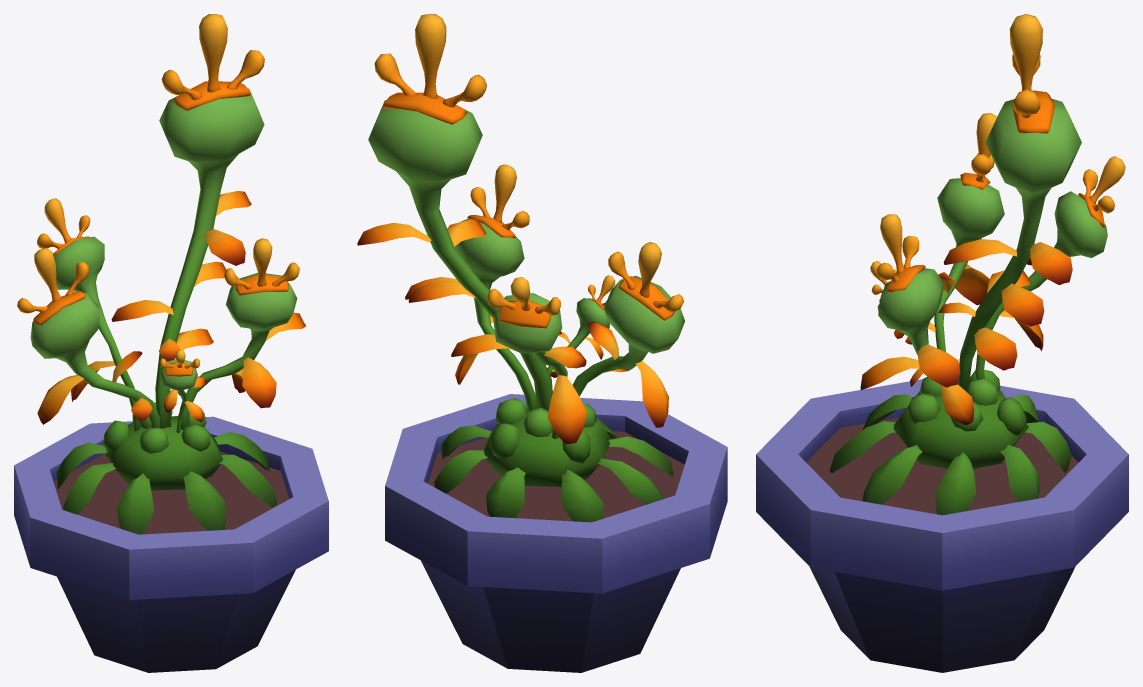
Rendered from wp_wPot_26.fbx.
The picture shows the model from 3 angles, left to right: view 1: azimuth 30°, elevation 25°; view 2: azimuth 150°, elevation 25°; view 3: azimuth 270°, elevation 25°; orthographic projection. The views are drawn at different scales.
Visible parts, largest first — view 1: w_pl26; view 2: w_pl26; view 3: w_pl26.
Boxes of the visible parts, x1,y1,x2,y2 form: w_pl26: (14, 14, 328, 672); w_pl26: (357, 14, 727, 672); w_pl26: (756, 14, 1128, 672).
Bounding box in the file's own units: 109 × 213 × 109.
